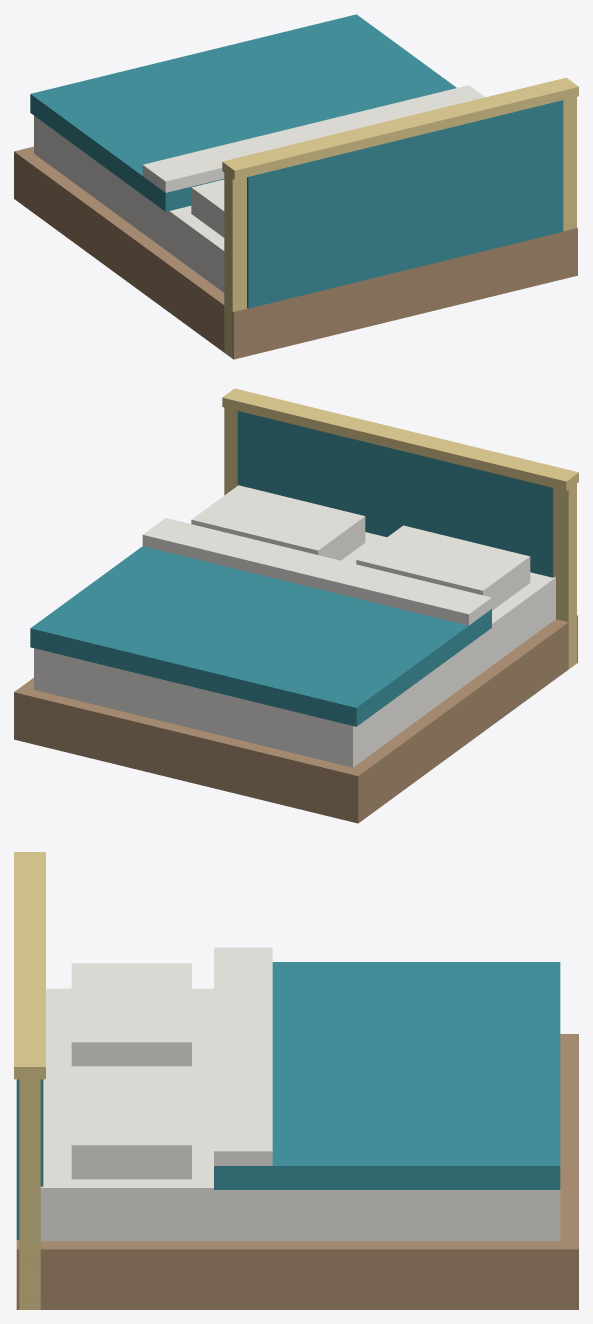
File: bb_set_hohbed.fbx
3 views of the same model, one above another, from view 1: azimuth 30°, elevation 25°; view 2: azimuth 150°, elevation 25°; view 3: azimuth 270°, elevation 25° (orthographic). The views are drawn at different scales.
Visible parts, largest first — view 1: bb_set_hohbed; view 2: bb_set_hohbed; view 3: bb_set_hohbed.
Boxes of the visible parts, <box> form: bb_set_hohbed: <box>14,14,578,359</box>; bb_set_hohbed: <box>14,388,578,823</box>; bb_set_hohbed: <box>14,852,578,1309</box>.
Size of the model in its own units: 1.9 by 1 by 2.11.
